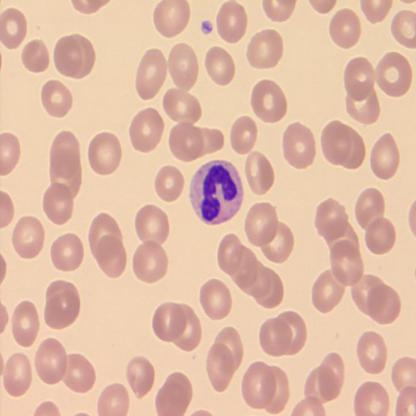Segmented neutrophil: (187, 156, 245, 227)
